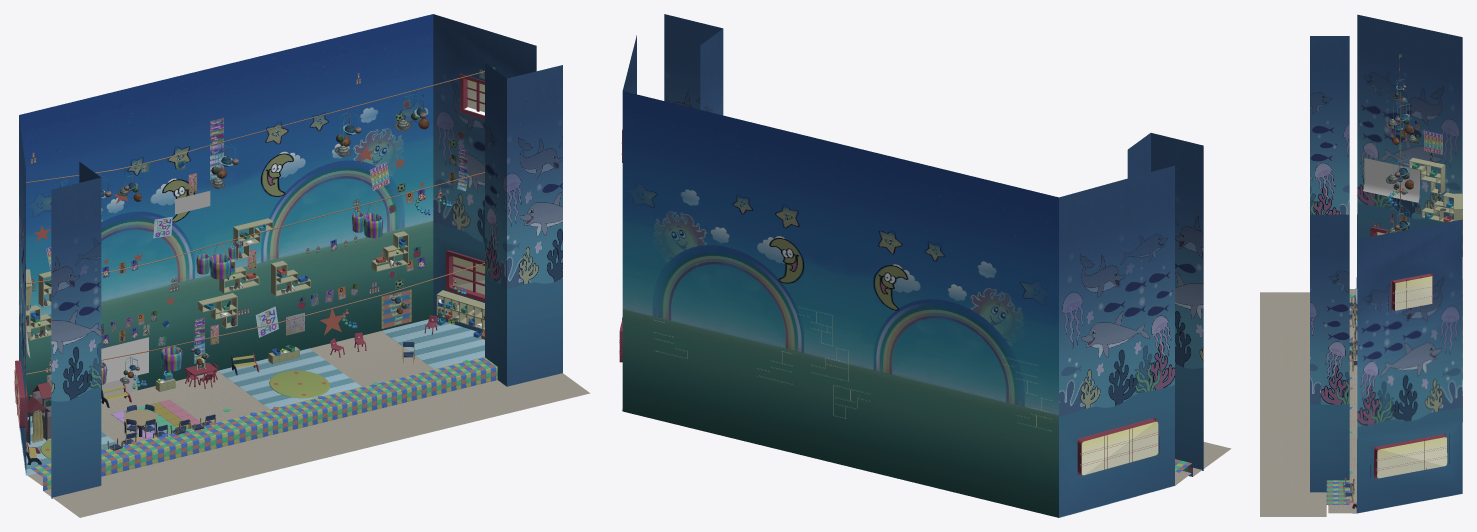
File: Popit_Background.fbx
3 views of the same model, side by side, from view 1: azimuth 30°, elevation 25°; view 2: azimuth 150°, elevation 25°; view 3: azimuth 270°, elevation 25° (orthographic). The views are drawn at different scales.
Visible parts, largest first — view 1: bg; view 2: bg; view 3: bg.
Part boxes in pixels (x1,y1,x2,y2): bg: (14, 14, 590, 517); bg: (619, 14, 1231, 517); bg: (1260, 14, 1462, 516).
Size of the model in its own units: 1.04e+07 by 6021529 by 3974339.
